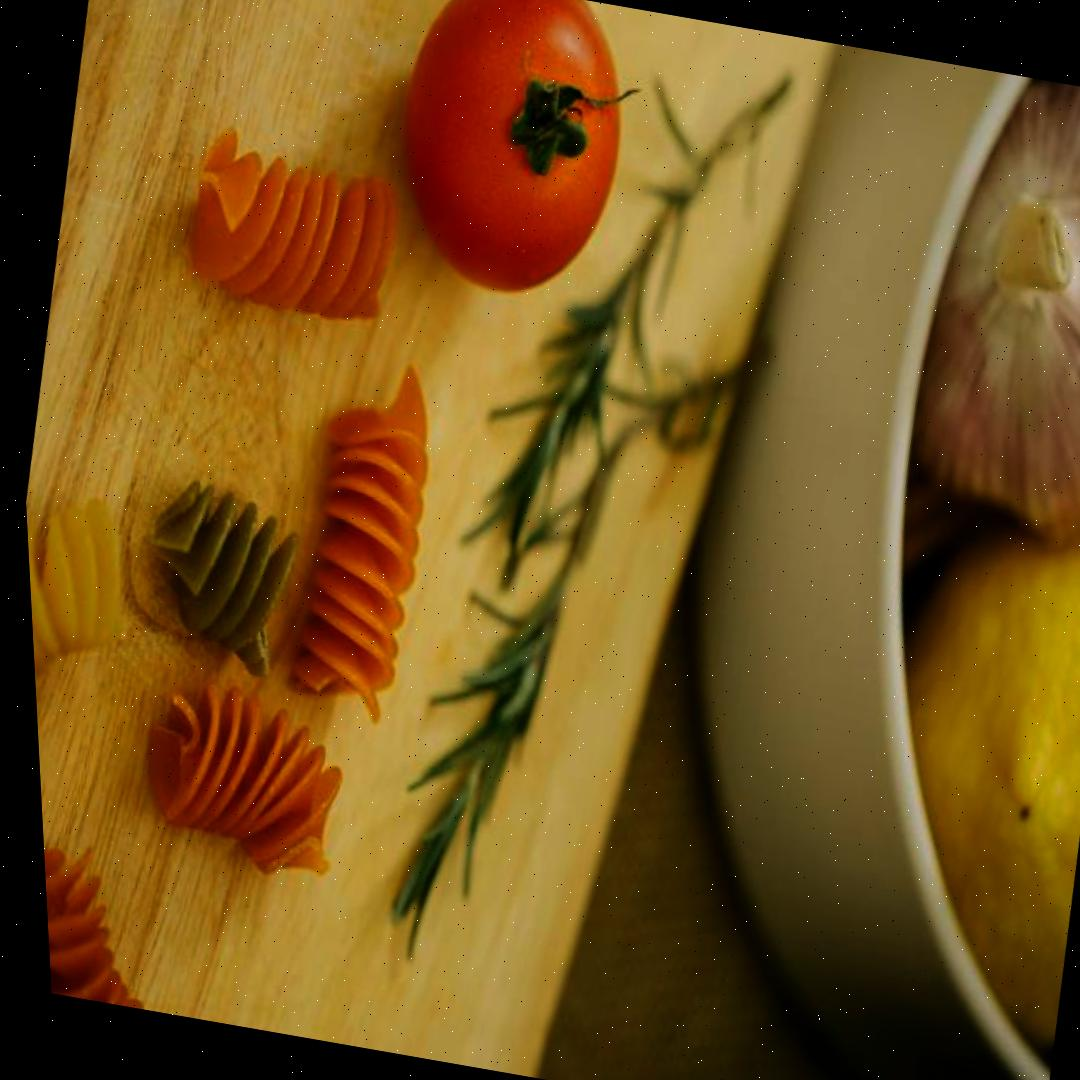matang: (372, 0, 651, 307)
